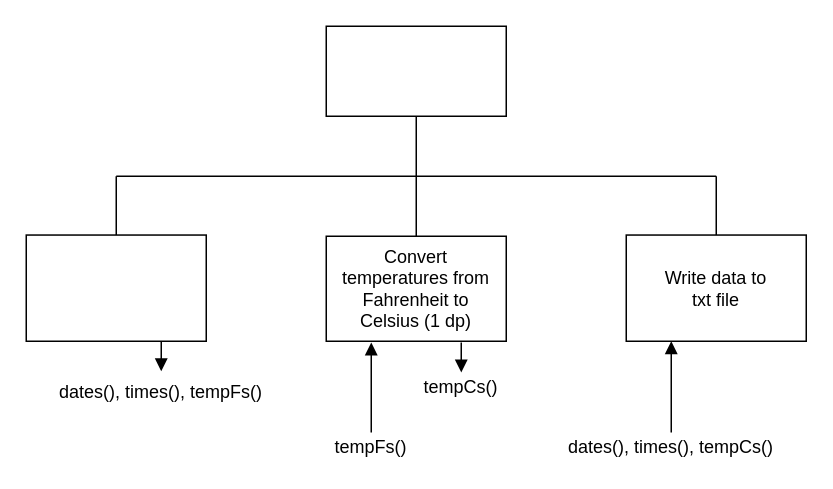
Image size: 833x489. Some labels were removed from this diagram. Here are the shapes that lost their labels. From the top down, the centre of each, then its label:
At [415,70]: "Temperatures".
At [115,287]: "Read data from csv file".
